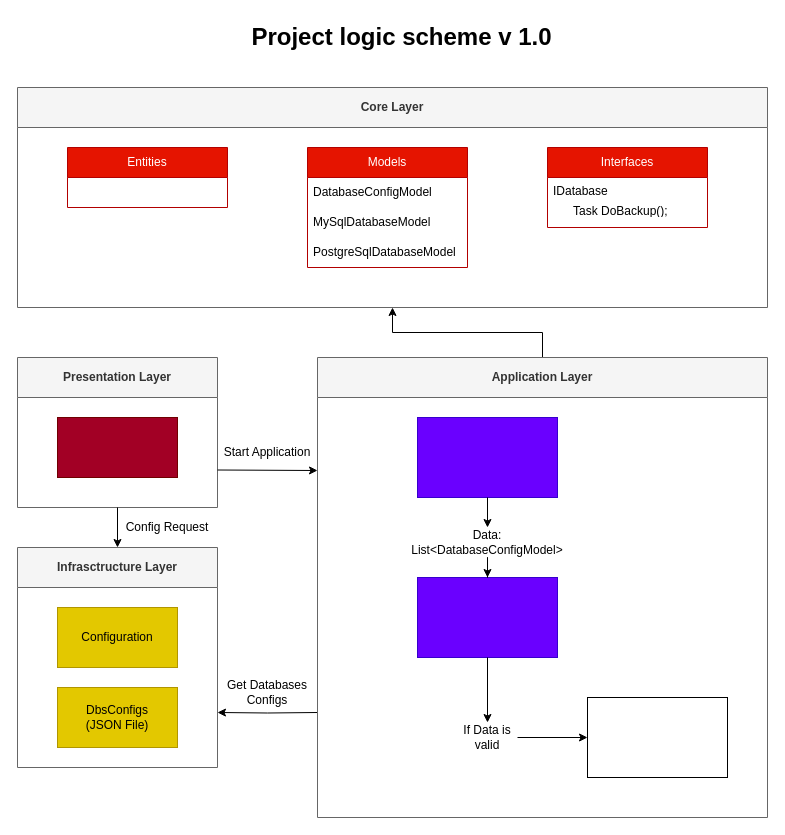
The diagram is 785 pixels wide and 835 high, and some of its shapes have lost their labels. Each missing label, with the centre of its shape:
Aplication: the point at 117,447
IApplicationService: the point at 487,457
IDbBackupService: the point at 487,617
Start Backups: the point at 657,737
